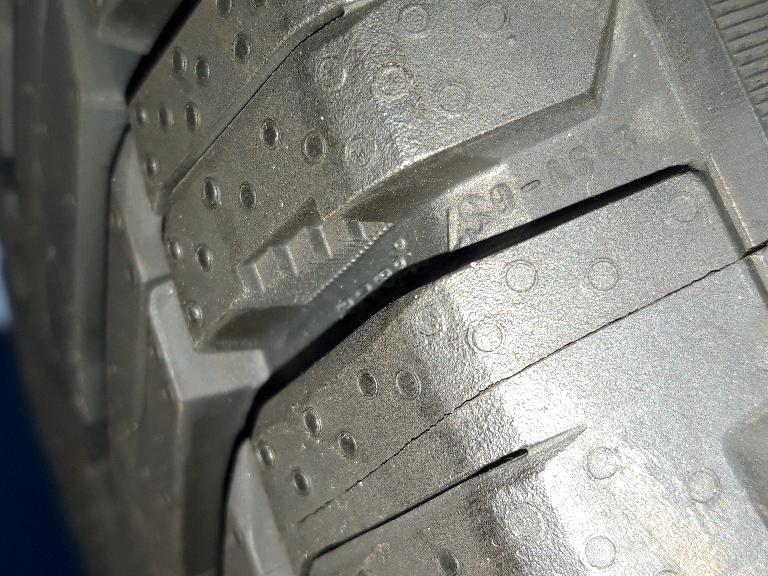temoin:100: (220, 189, 406, 318)
